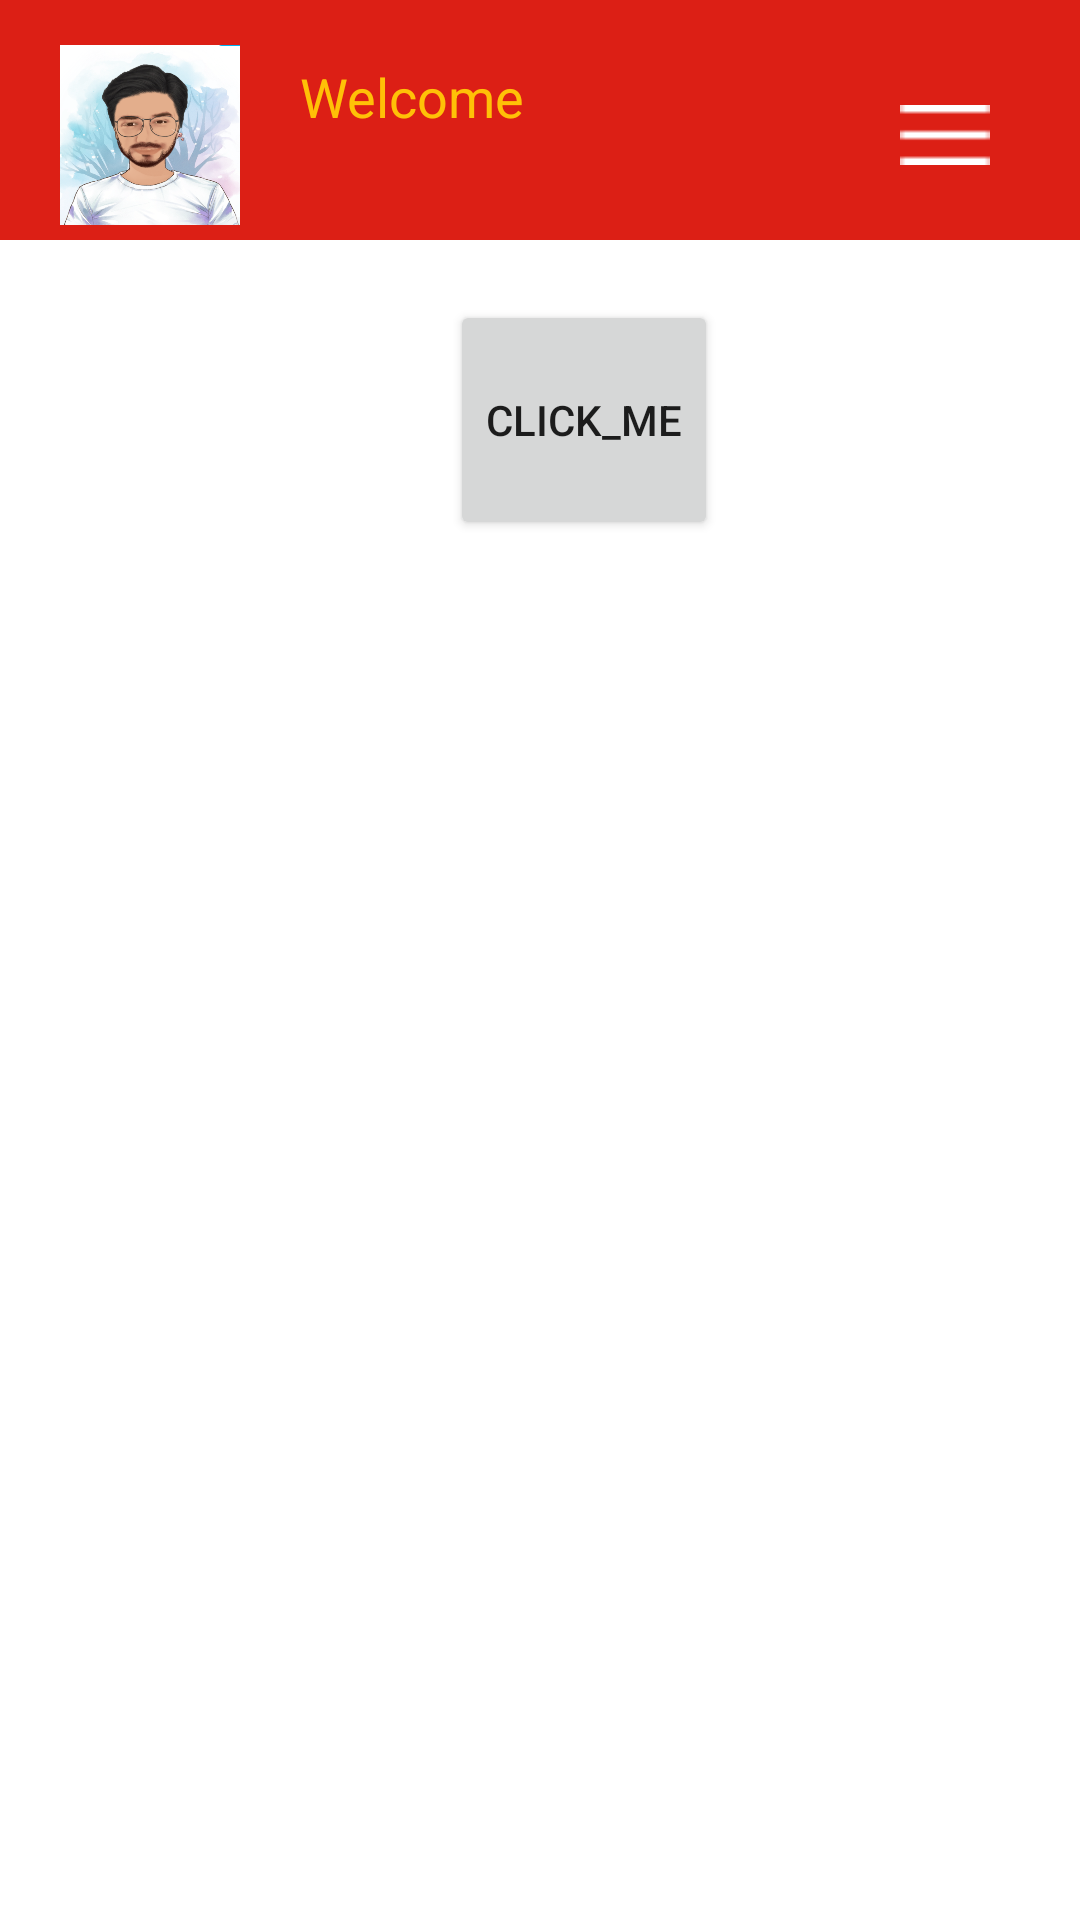

Screen size 1080px×1920px. Icon name, then its box in pixels as (x1, y1, x2, y2):
menue: (900, 105, 990, 165)
